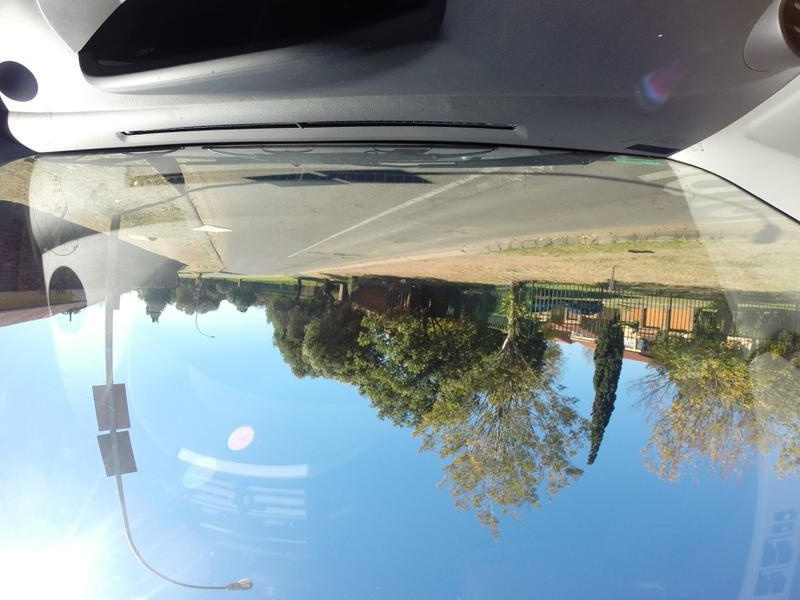pothole: (452, 217, 481, 243), (332, 246, 358, 265)
